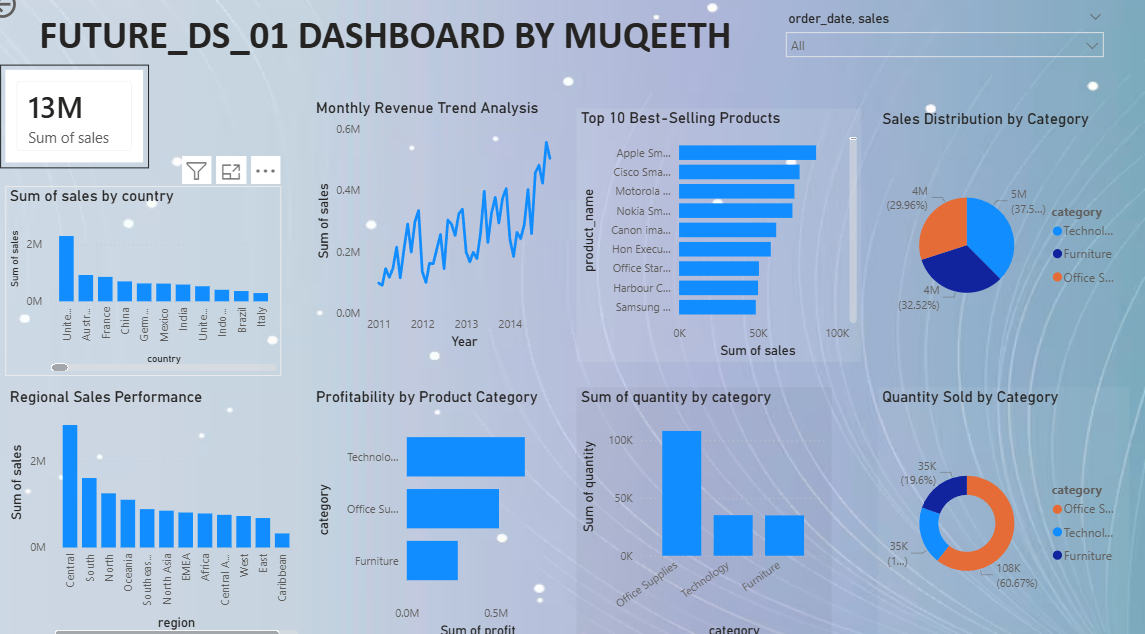

The page's visual inventory and layout, read from the dashboard file:
{"tool":"powerbi","page":{"name":"Page 1","canvas":[1280,720],"ordinal":0},"visuals":[{"type":"clusteredBarChart","fields":{"Category":["superstore_cleaned xlsx.product_name"],"Y":["Sum(superstore_cleaned xlsx.sales)"]},"box":[0,440.5,279.9,279.9],"z":0},{"type":"lineChart","fields":{"Category":["superstore_cleaned xlsx.order_date.Variation.Date Hierarchy.Year","superstore_cleaned xlsx.order_date.Variation.Date Hierarchy.Month"],"Y":["Sum(superstore_cleaned xlsx.sales)"]},"box":[0,123.5,279.9,279.9],"z":1000},{"type":"cardVisual","fields":{"Data":["Sum(superstore_cleaned xlsx.sales)"]},"box":[289.5,123.5,279.9,279.9],"z":2000},{"type":"pieChart","fields":{"Category":["superstore_cleaned xlsx.category"],"Y":["Sum(superstore_cleaned xlsx.sales)"]},"box":[580,123,280,280],"z":3000},{"type":"clusteredBarChart","fields":{"Category":["superstore_cleaned xlsx.region"],"Y":["Sum(superstore_cleaned xlsx.sales)"]},"box":[870,123,280,280],"z":4000},{"type":"donutChart","fields":{"Category":["superstore_cleaned xlsx.category"],"Y":["Sum(superstore_cleaned xlsx.profit)"]},"box":[290,440,280,280],"z":5000},{"type":"columnChart","fields":{"Y":["Sum(superstore_cleaned xlsx.quantity)"],"Category":["superstore_cleaned xlsx.category"]},"box":[590.1,440.5,279.9,279.9],"z":6000},{"type":"textbox","box":[34.3,22,812.4,83.7],"z":7000},{"type":"barChart","fields":{"Y":["Sum(superstore_cleaned xlsx.sales)"],"Category":["superstore_cleaned xlsx.country"]},"box":[897.4,440.5,279.9,279.9],"z":8000},{"type":"slicer","fields":{"Values":["superstore_cleaned xlsx.order_date","superstore_cleaned xlsx.sales"]},"box":[870,22,369.1,64.5],"z":9000},{"type":"actionButton","box":[0,0,100,40],"z":10000}]}

Visuals, with their boxes in screenshot pixels (x1, y1, x2, y2), scaled from the page's 1280x720 canvas onto the 1145x634 screenshot:
clusteredBarChart - superstore_cleaned xlsx.product_name x Sum(superstore_cleaned xlsx.sales): rect(0, 388, 250, 633)
lineChart - superstore_cleaned xlsx.order_date.Variation.Date Hierarchy.Year x superstore_cleaned xlsx.order_date.Variation.Date Hierarchy.Month: rect(0, 109, 250, 355)
cardVisual - Sum(superstore_cleaned xlsx.sales): rect(259, 109, 509, 355)
pieChart - superstore_cleaned xlsx.category x Sum(superstore_cleaned xlsx.sales): rect(519, 108, 769, 355)
clusteredBarChart - superstore_cleaned xlsx.region x Sum(superstore_cleaned xlsx.sales): rect(778, 108, 1029, 355)
donutChart - superstore_cleaned xlsx.category x Sum(superstore_cleaned xlsx.profit): rect(259, 387, 510, 633)
columnChart - Sum(superstore_cleaned xlsx.quantity) x superstore_cleaned xlsx.category: rect(528, 388, 778, 633)
textbox: rect(31, 19, 757, 93)
barChart - Sum(superstore_cleaned xlsx.sales) x superstore_cleaned xlsx.country: rect(803, 388, 1053, 633)
slicer - superstore_cleaned xlsx.order_date x superstore_cleaned xlsx.sales: rect(778, 19, 1108, 76)
actionButton: rect(0, 0, 89, 35)
